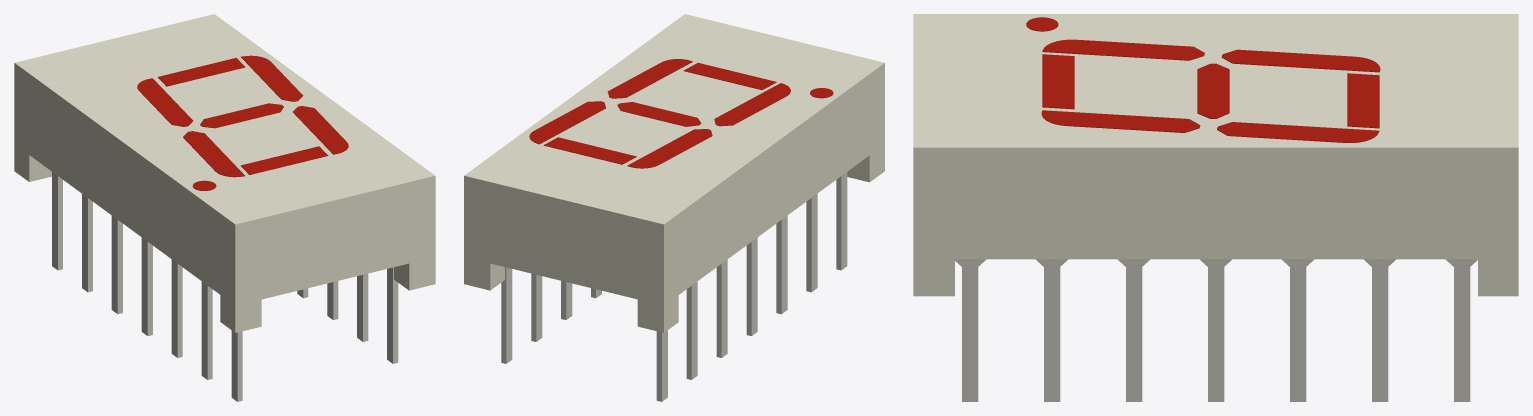
The model's file is kc-man72a.glb.
3 views of the same model, side by side, from view 1: azimuth 30°, elevation 25°; view 2: azimuth 150°, elevation 25°; view 3: azimuth 270°, elevation 25° (orthographic). The views are drawn at different scales.
Parts seen in each view (by area): view 1: 0.75_0.75_0.6666666666666666_0, 0.6666666666666666_0.6666666666666666_0.5833333333333334_0.8, 0.4166666666666667_0_0_0; view 2: 0.75_0.75_0.6666666666666666_0, 0.6666666666666666_0.6666666666666666_0.5833333333333334_0.8, 0.4166666666666667_0_0_0; view 3: 0.75_0.75_0.6666666666666666_0, 0.6666666666666666_0.6666666666666666_0.5833333333333334_0.8, 0.4166666666666667_0_0_0.
Part boxes in pixels (x1,y1,x2,y2): 0.75_0.75_0.6666666666666666_0: (14,14,435,332); 0.6666666666666666_0.6666666666666666_0.5833333333333334_0.8: (52,172,398,401); 0.4166666666666667_0_0_0: (137,55,348,190); 0.75_0.75_0.6666666666666666_0: (464,14,884,332); 0.6666666666666666_0.6666666666666666_0.5833333333333334_0.8: (501,172,847,401); 0.4166666666666667_0_0_0: (529,59,833,168); 0.75_0.75_0.6666666666666666_0: (913,14,1518,296); 0.6666666666666666_0.6666666666666666_0.5833333333333334_0.8: (955,259,1477,401); 0.4166666666666667_0_0_0: (1026,17,1380,142).
Bounding box in the file's own units: 0.98 × 0.916 × 1.88.
